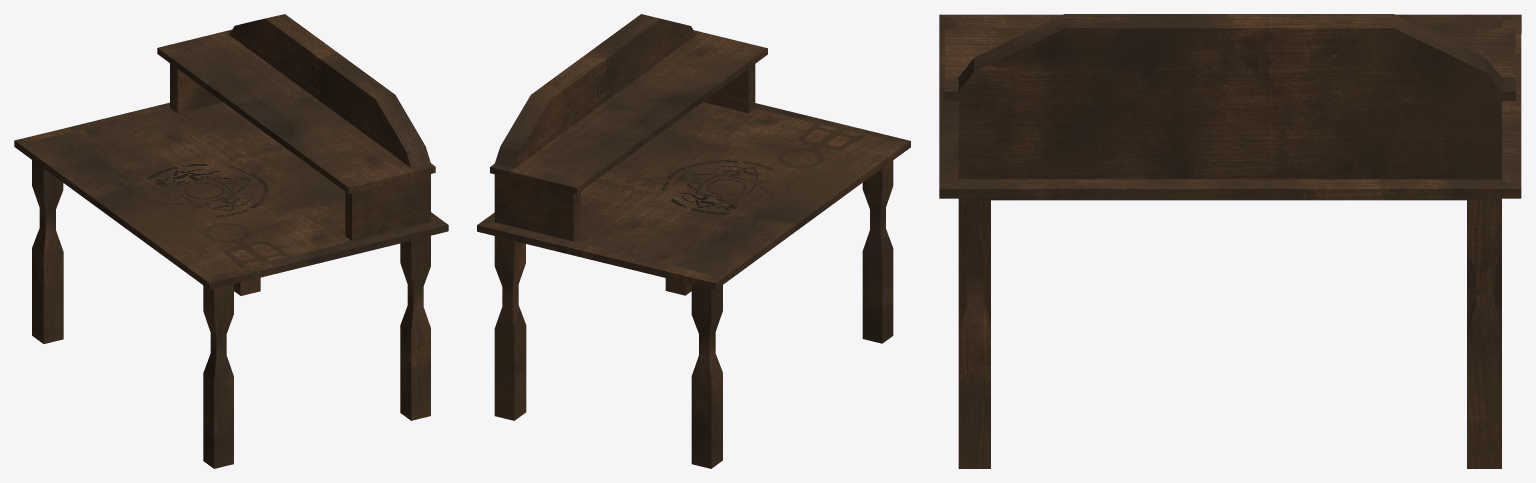
Rendered from desk.fbx.
3 renders of one model, left to right at view 1: azimuth 30°, elevation 25°; view 2: azimuth 150°, elevation 25°; view 3: azimuth 270°, elevation 25°, orthographic. The views are drawn at different scales.
Visible parts, largest first — view 1: desk_UV:pCube1; view 2: desk_UV:pCube1; view 3: desk_UV:pCube1.
Boxes of the visible parts, x1,y1,x2,y2 form: desk_UV:pCube1: (14,14,448,468); desk_UV:pCube1: (477,14,910,468); desk_UV:pCube1: (939,14,1521,468).
Bounding box in the file's own units: 12.15 × 14.32 × 17.15.
1 material, 1 textured.
